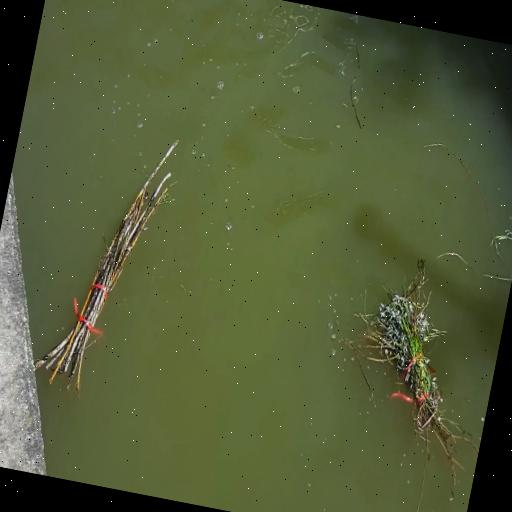twig: (28, 117, 185, 402), (350, 269, 488, 458)
